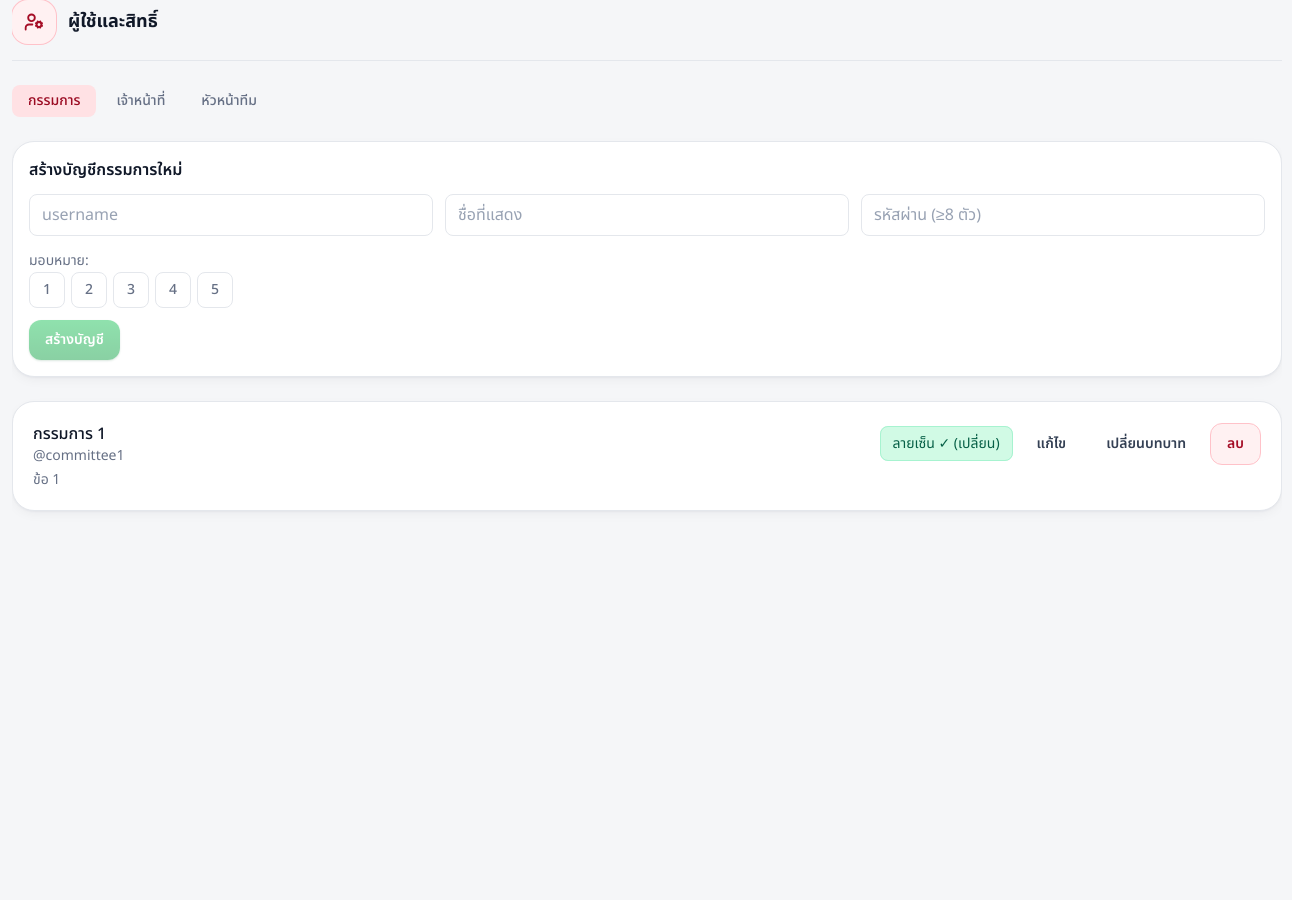
Test: Role change panel › switching the target role resets the chosen scope
This screenshot has width=1292, height=900.
Click the button "เปลี่ยนบทบาท" at [1146, 444], box left=1090, top=424, right=1202, bottom=464
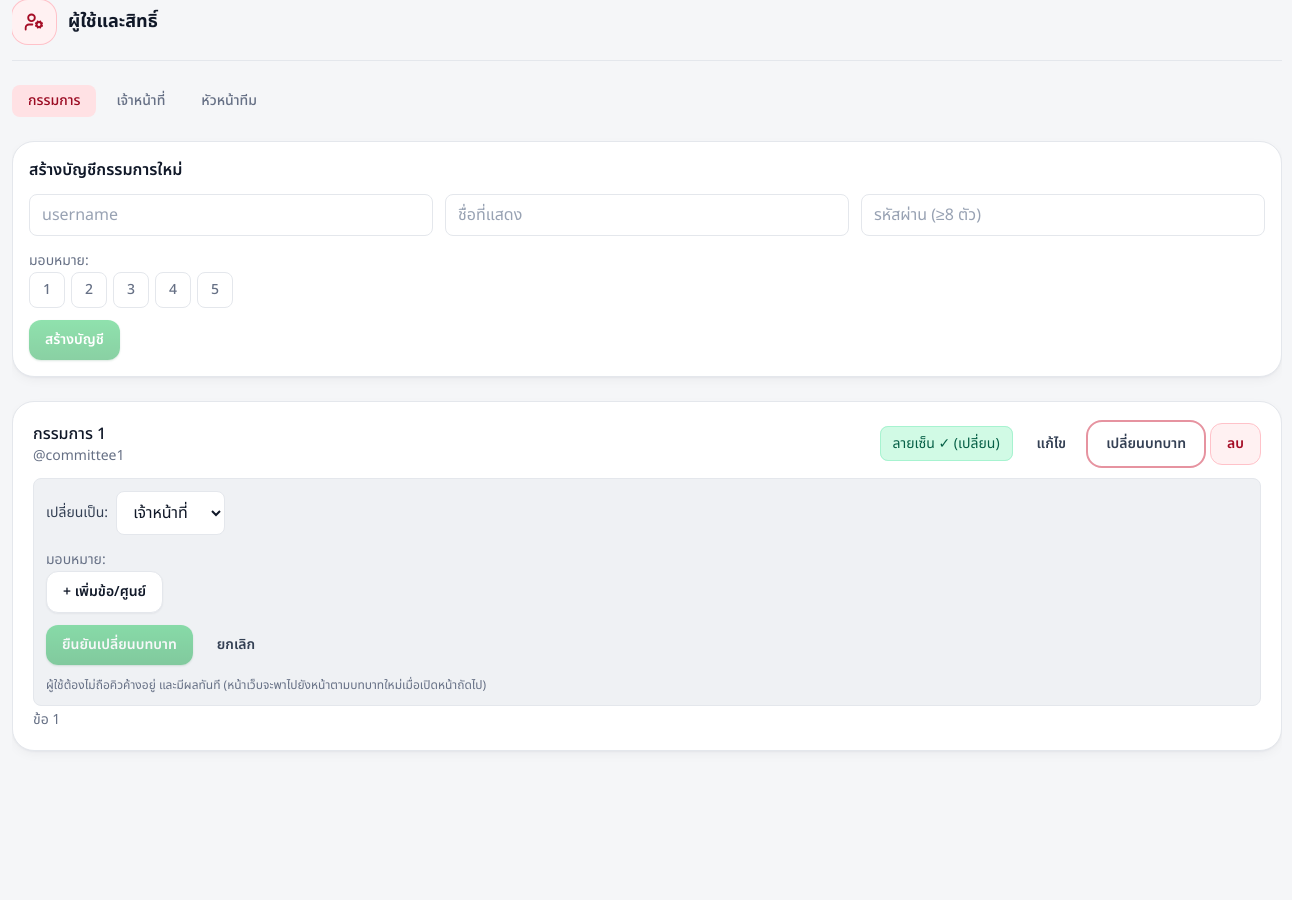
Click the button "+ เพิ่มข้อ/ศูนย์" at [105, 592], box left=46, top=571, right=163, bottom=613
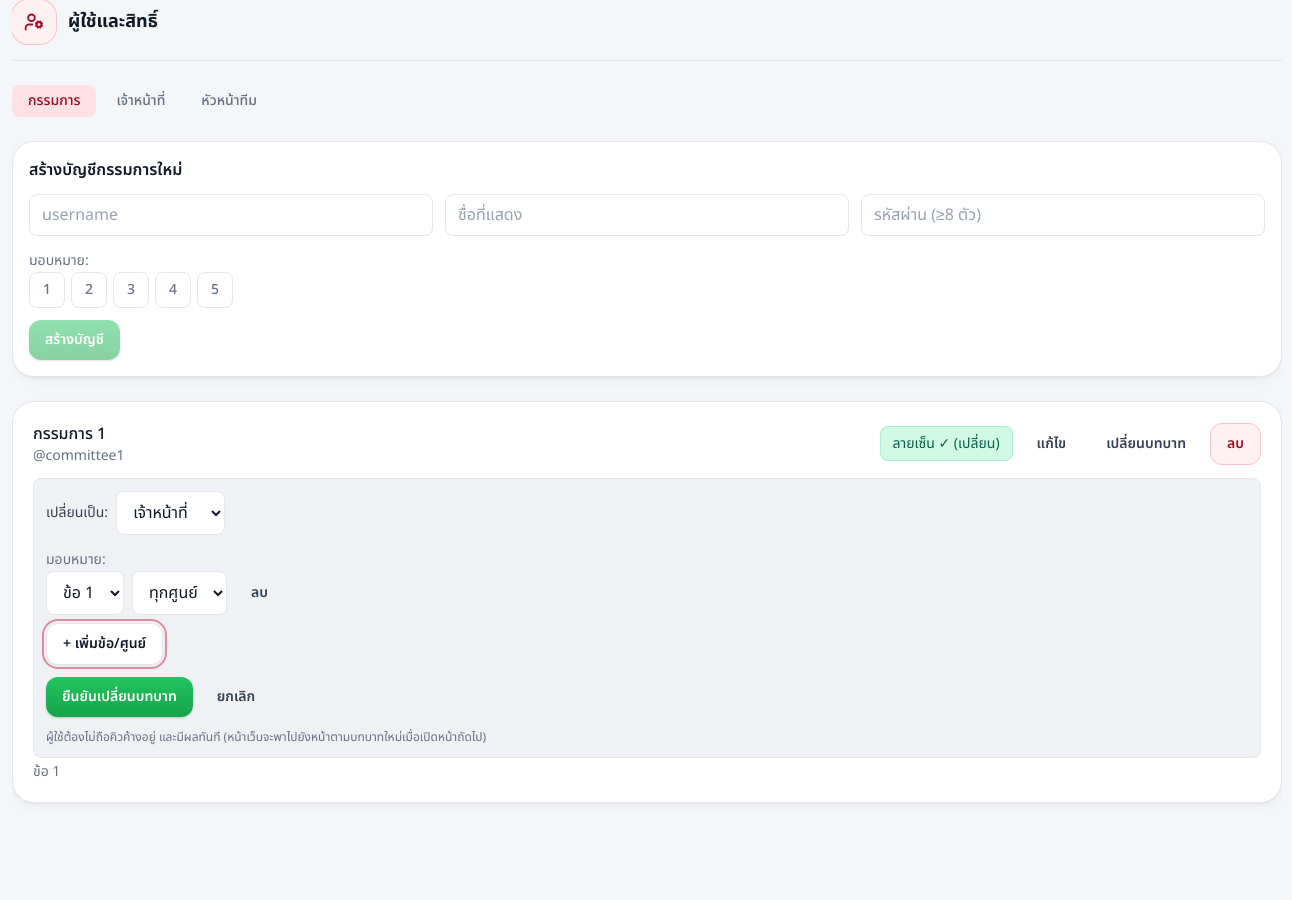
Expected: the button "ยืนยันเปลี่ยนบทบาท" is enabled, left=46, top=677, right=193, bottom=717
Select "หัวหน้าทีม" in the dropdown named "บทบาทใหม่" at [171, 513], box left=116, top=491, right=225, bottom=535
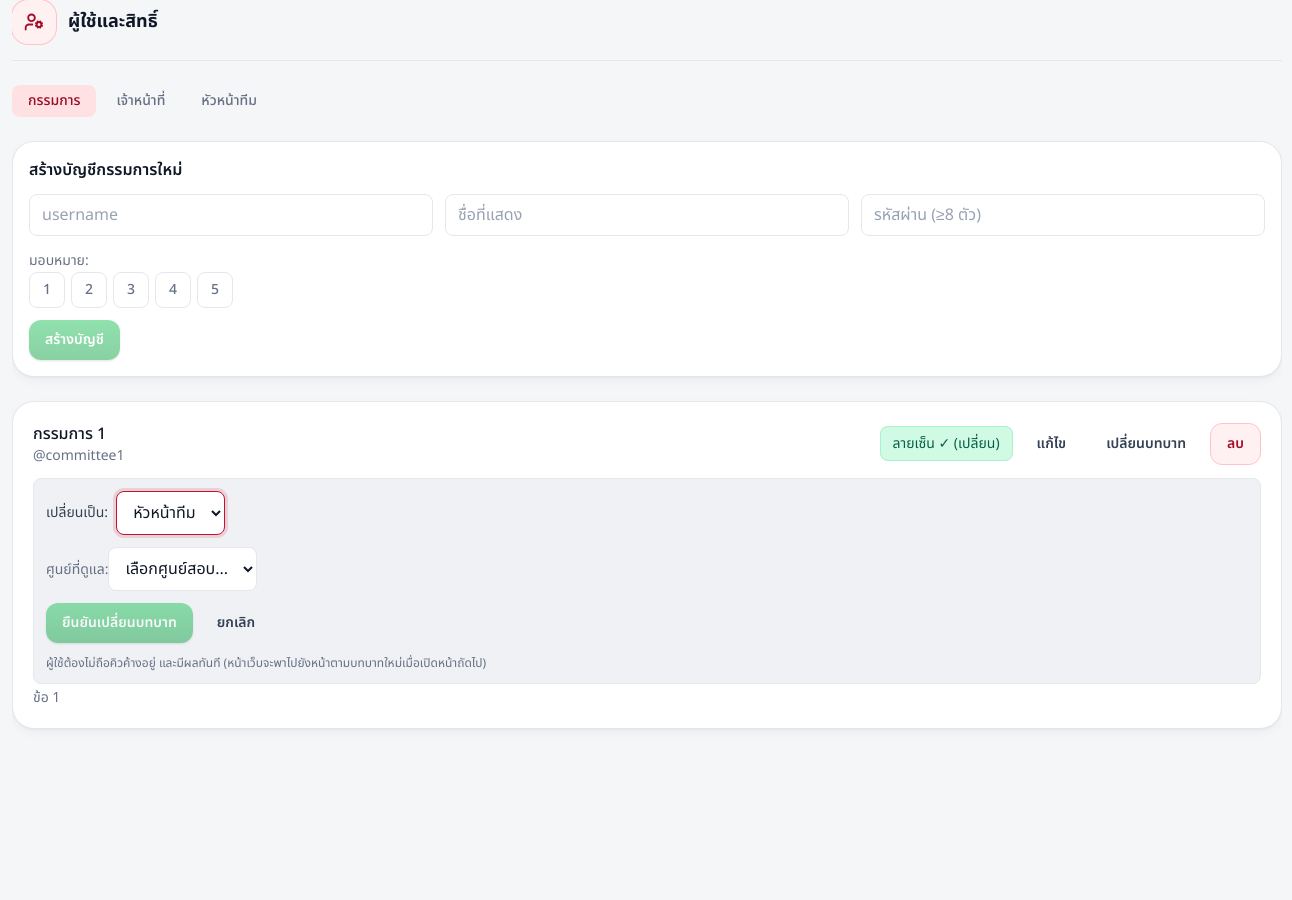
Expected: the button "ยืนยันเปลี่ยนบทบาท" is disabled, left=46, top=603, right=193, bottom=643
